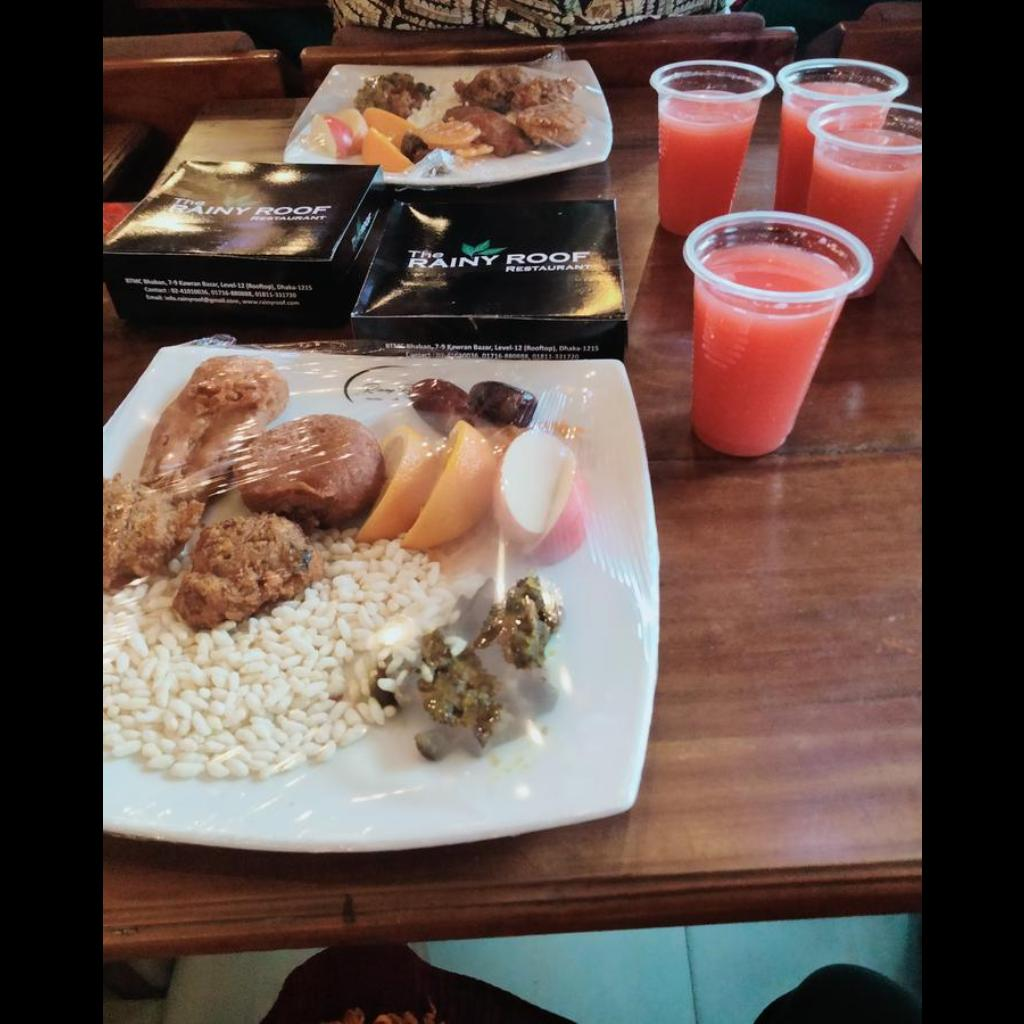dates: (408, 376, 530, 422)
juice: (714, 235, 838, 293)
orange: (354, 425, 486, 554)
peyaju: (181, 517, 314, 631)
puffed-rice: (102, 554, 423, 784)
